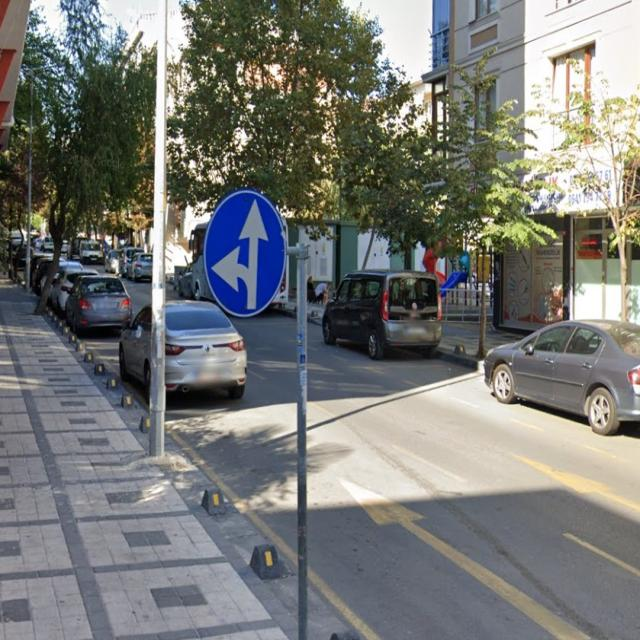ilerisol: (202, 189, 286, 316)
